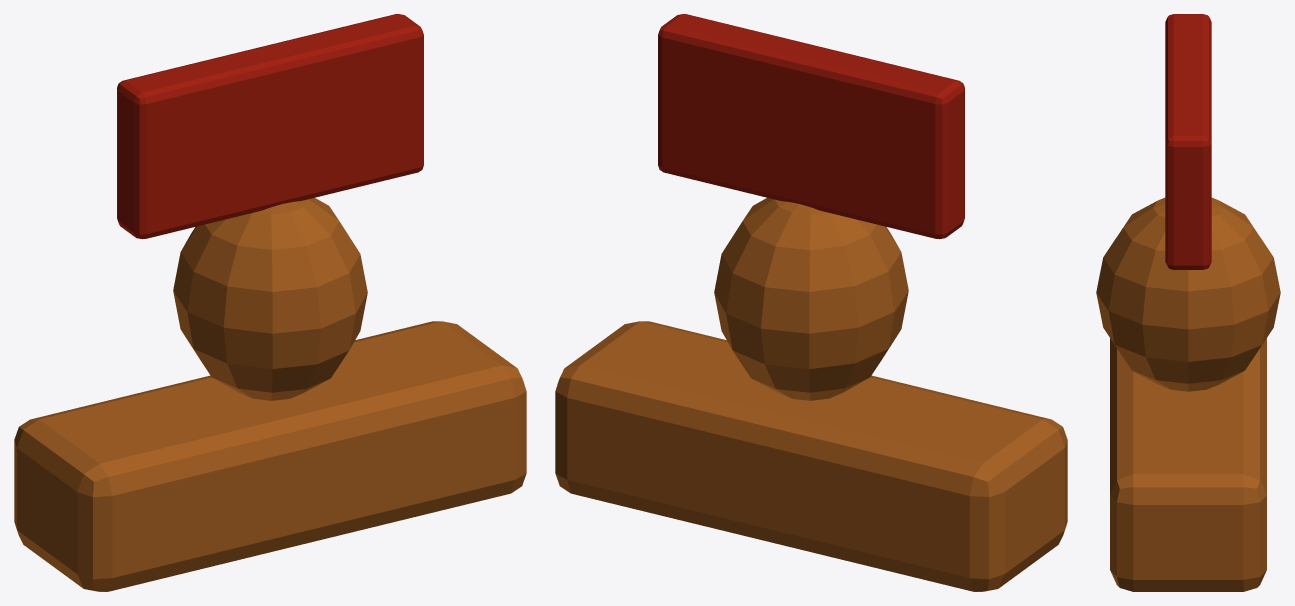
Rendered from captain_role_kit_LOD1.glb.
3 renders of one model, left to right at view 1: azimuth 30°, elevation 25°; view 2: azimuth 150°, elevation 25°; view 3: azimuth 270°, elevation 25°, orthographic. The views are drawn at different scales.
Visible parts, largest first — view 1: LOD1_Pauldrons, LOD1_TransverseCrest, LOD1_CaptainHelmet; view 2: LOD1_Pauldrons, LOD1_TransverseCrest, LOD1_CaptainHelmet; view 3: LOD1_Pauldrons, LOD1_CaptainHelmet, LOD1_TransverseCrest.
Boxes of the visible parts, bbox=[...] form: LOD1_Pauldrons: bbox=[14, 321, 526, 591]; LOD1_TransverseCrest: bbox=[117, 14, 423, 239]; LOD1_CaptainHelmet: bbox=[173, 197, 367, 400]; LOD1_Pauldrons: bbox=[555, 321, 1067, 591]; LOD1_TransverseCrest: bbox=[658, 14, 964, 239]; LOD1_CaptainHelmet: bbox=[714, 197, 908, 400]; LOD1_Pauldrons: bbox=[1110, 338, 1266, 591]; LOD1_CaptainHelmet: bbox=[1096, 197, 1280, 391]; LOD1_TransverseCrest: bbox=[1165, 14, 1211, 269].
Bounding box in the file's own units: 1.02 × 1.02 × 0.4.
